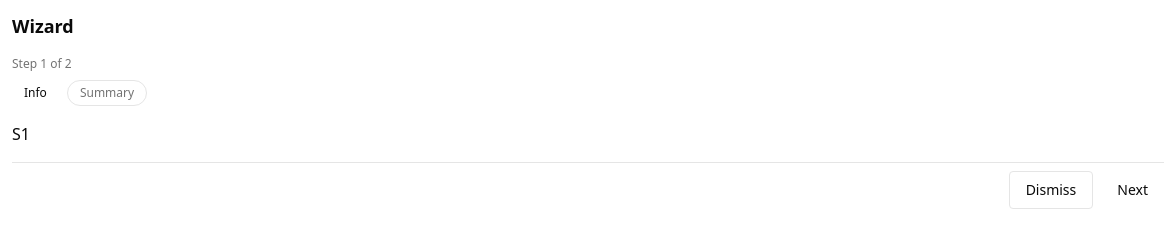
Test: Wizard button row › clicking Next on info advances without validation when no required fields are present
Expected: the text "Step 1 of 2" is shown, [12,55,72,72]
Step 1. Click the button "Next" → (1133, 190), box [1101,171,1164,209]
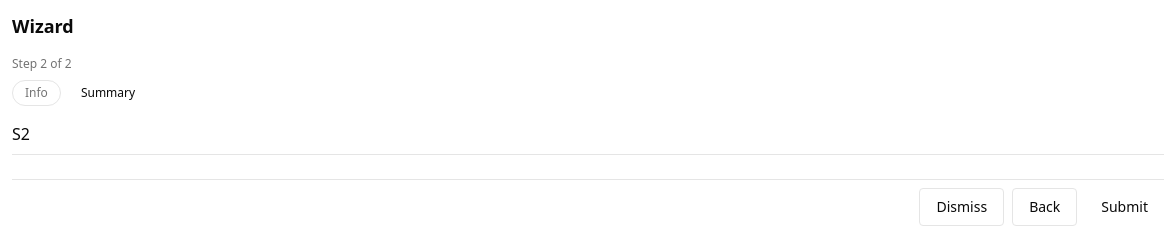
Expected: the text "Step 2 of 2" is shown, [12,55,72,72]
